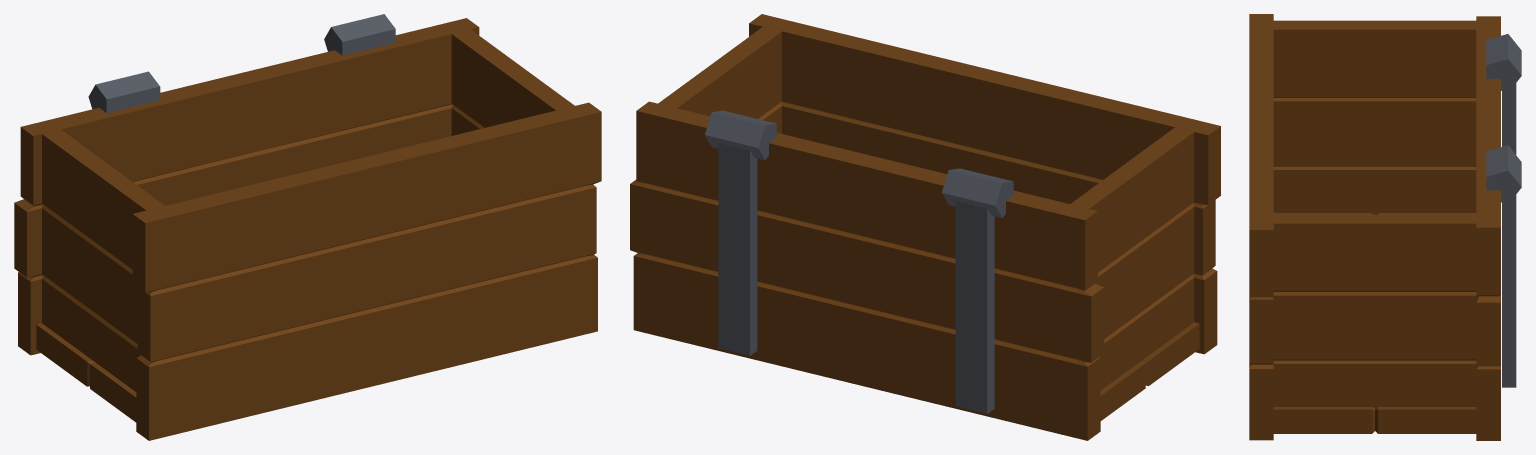
The model's file is Chest.fbx.
3 renders of one model, left to right at view 1: azimuth 30°, elevation 25°; view 2: azimuth 150°, elevation 25°; view 3: azimuth 270°, elevation 25°, orthographic. The views are drawn at different scales.
Visible parts, largest first — view 1: Chest; view 2: Chest; view 3: Chest.
Boxes of the visible parts, x1=… form: Chest: x1=14, y1=14, x2=601, y2=440; Chest: x1=630, y1=14, x2=1220, y2=440; Chest: x1=1249, y1=14, x2=1521, y2=440.
Size of the model in its own units: 87.01 by 43.36 by 46.17.
